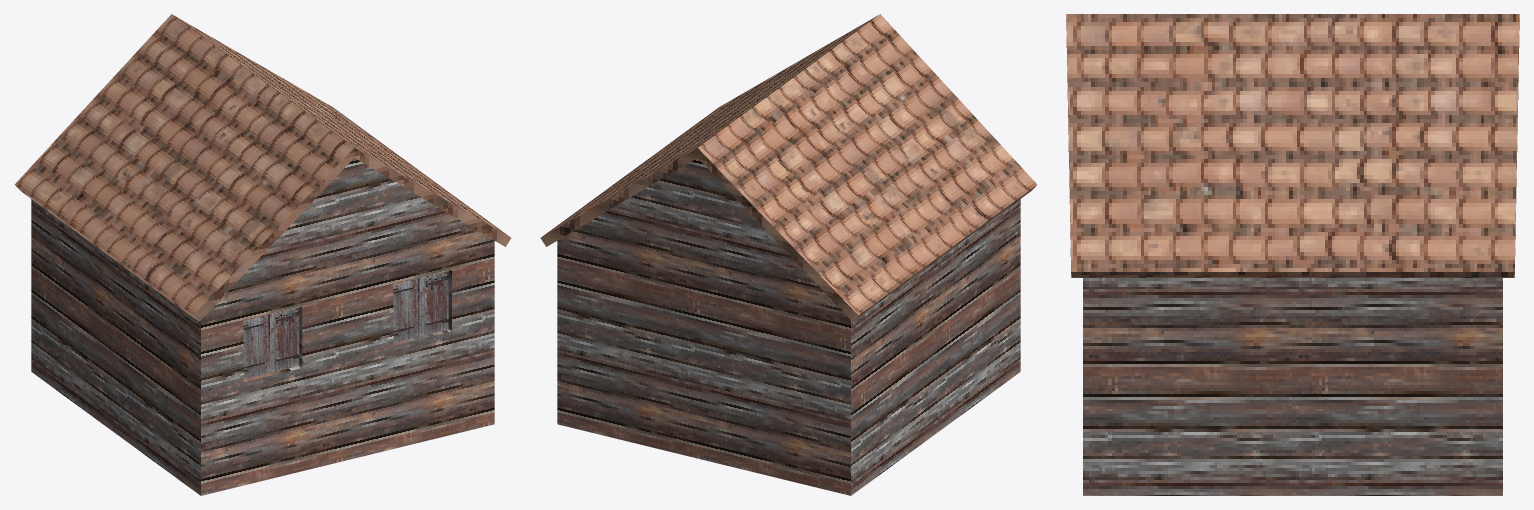
Rendered from House.glb.
3 renders of one model, left to right at view 1: azimuth 30°, elevation 25°; view 2: azimuth 150°, elevation 25°; view 3: azimuth 270°, elevation 25°, orthographic. The views are drawn at different scales.
Visible parts, largest first — view 1: House; view 2: House; view 3: House.
Part boxes in pixels (x1=…): House: x1=14, y1=14, x2=511, y2=495; House: x1=540, y1=14, x2=1037, y2=495; House: x1=1066, y1=14, x2=1519, y2=495.
Bounding box in the file's own units: 10.84 × 10.32 × 10.78.
3 materials, 3 textured.
